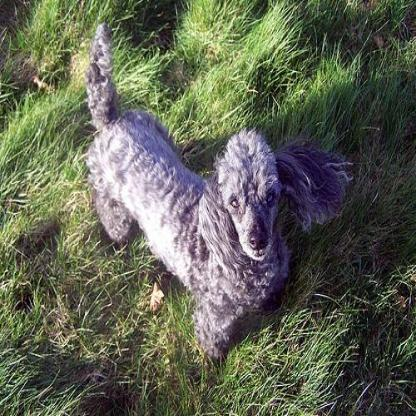toy_poodle: (83, 19, 353, 359)
